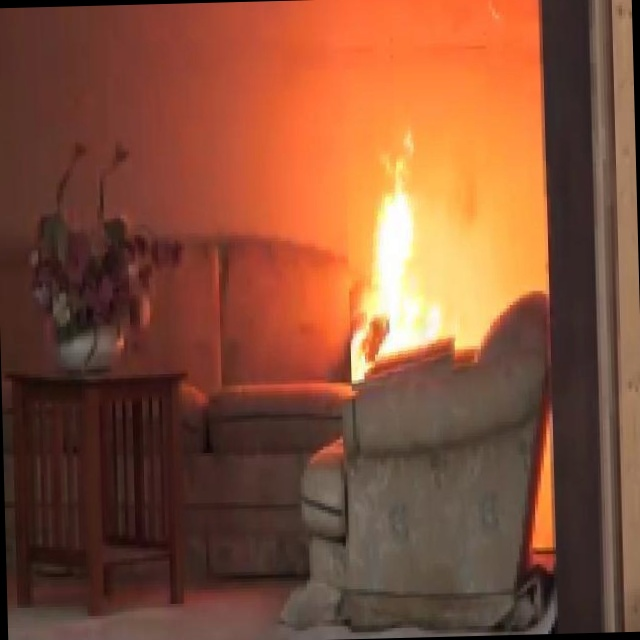fire: (349, 140, 469, 351)
